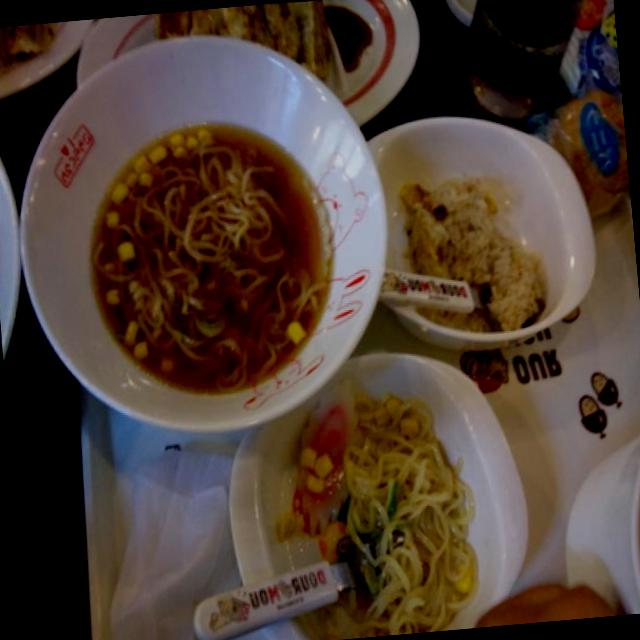Pasta: (331, 390, 489, 634)
